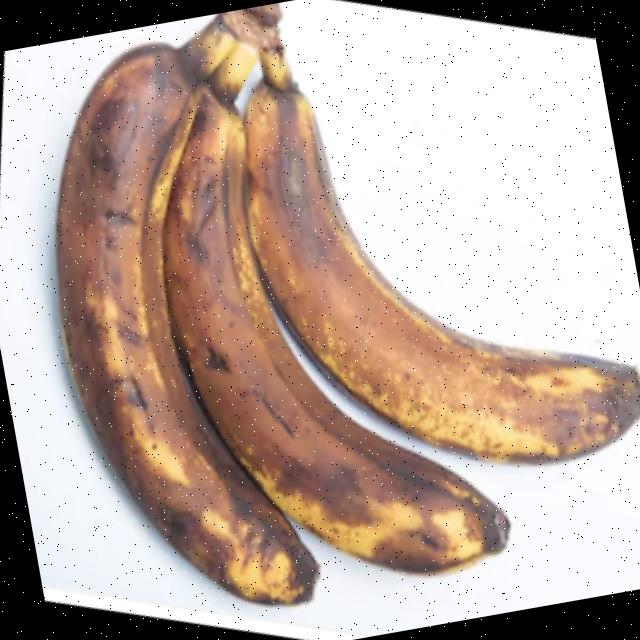rotten banana: (124, 54, 535, 640), (217, 8, 640, 532), (0, 26, 321, 640)
